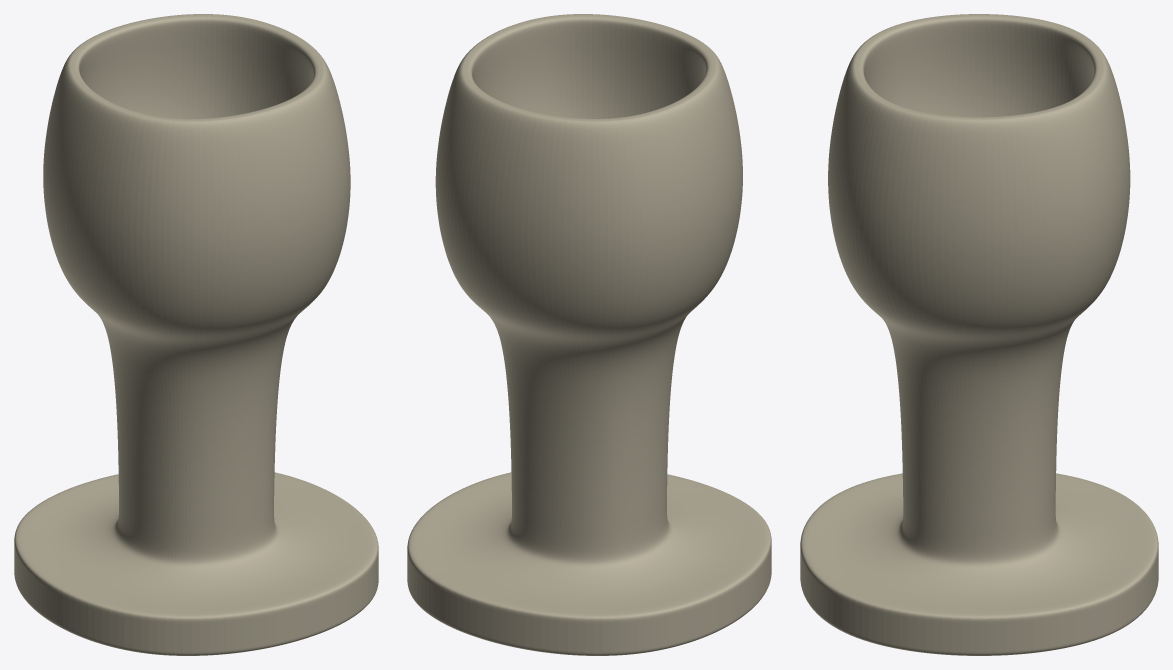
Rendered from Chalice.fbx.
The picture shows the model from 3 angles, left to right: view 1: azimuth 30°, elevation 25°; view 2: azimuth 150°, elevation 25°; view 3: azimuth 270°, elevation 25°; orthographic projection.
Visible parts, largest first — view 1: Cup; view 2: Cup; view 3: Cup.
Part boxes in pixels (x1,y1,x2,y2): Cup: (14, 14, 378, 655); Cup: (407, 14, 771, 655); Cup: (800, 14, 1158, 655).
Size of the model in its own units: 91.79 by 147 by 91.79.
